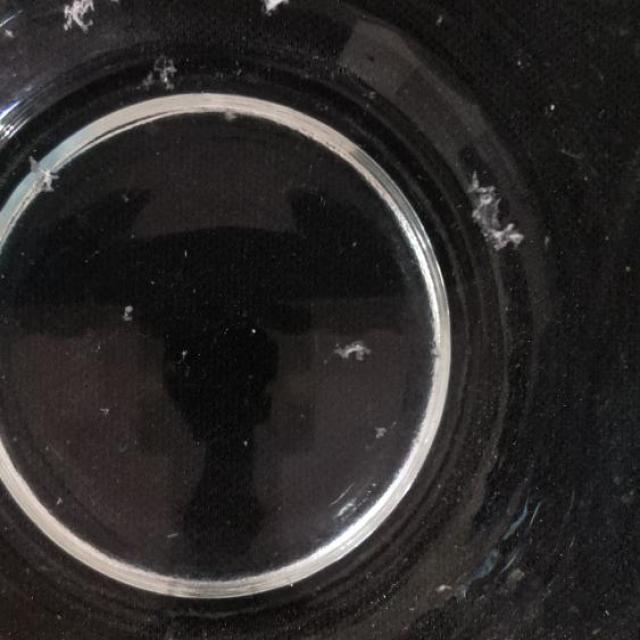fiber: (458, 166, 530, 262), (22, 145, 62, 199), (141, 46, 181, 96), (59, 0, 102, 39), (334, 326, 374, 364), (252, 0, 291, 19), (216, 104, 242, 128)
